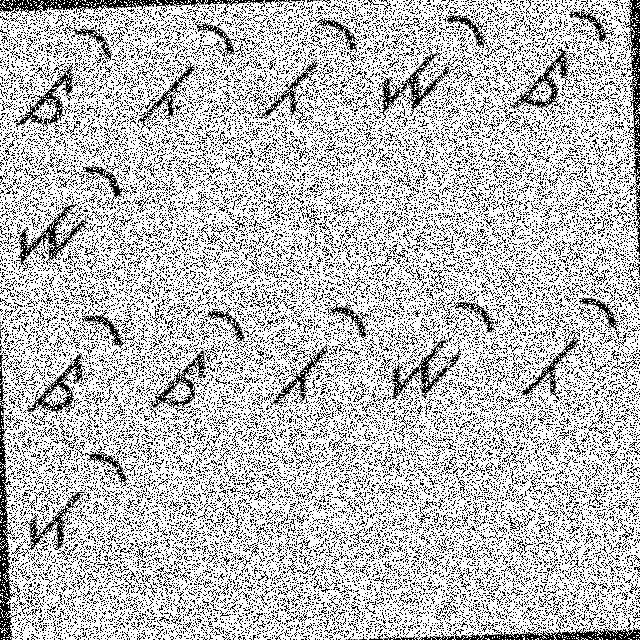bay: (509, 282, 622, 413), (261, 298, 373, 417), (248, 10, 360, 122), (136, 16, 237, 126)
cay: (137, 300, 252, 424), (16, 298, 128, 420), (504, 0, 614, 119), (10, 20, 121, 131)
may: (364, 0, 486, 126), (374, 289, 501, 408), (4, 150, 130, 268)
